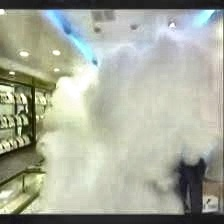smoke: (37, 14, 224, 224)
